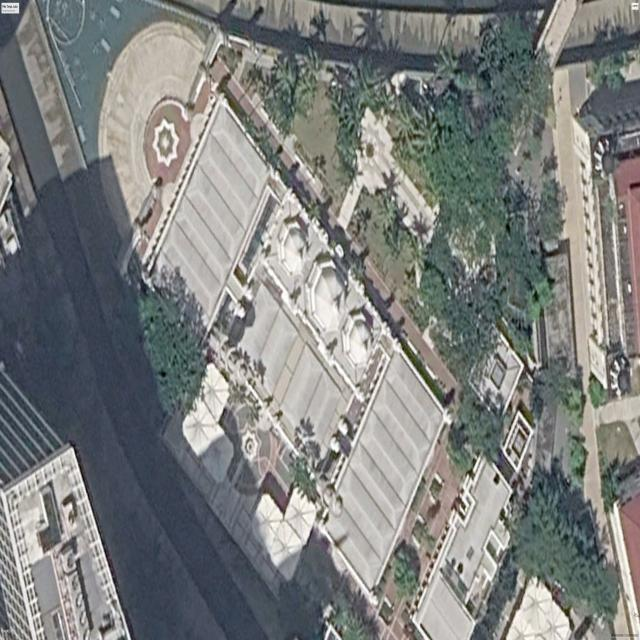mosque: (158, 98, 446, 592)
